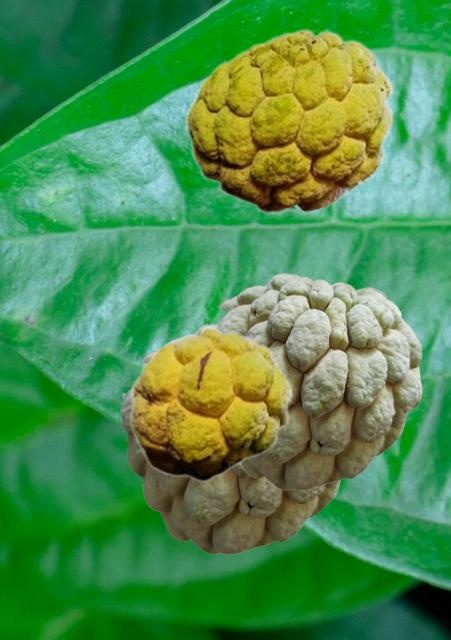atis: (120, 324, 342, 553), (216, 273, 421, 489), (184, 28, 393, 213), (128, 326, 292, 481)
